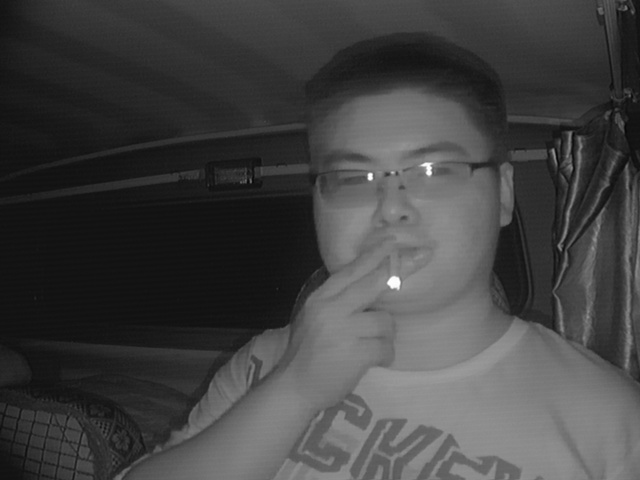hand: (302, 227, 425, 372)
